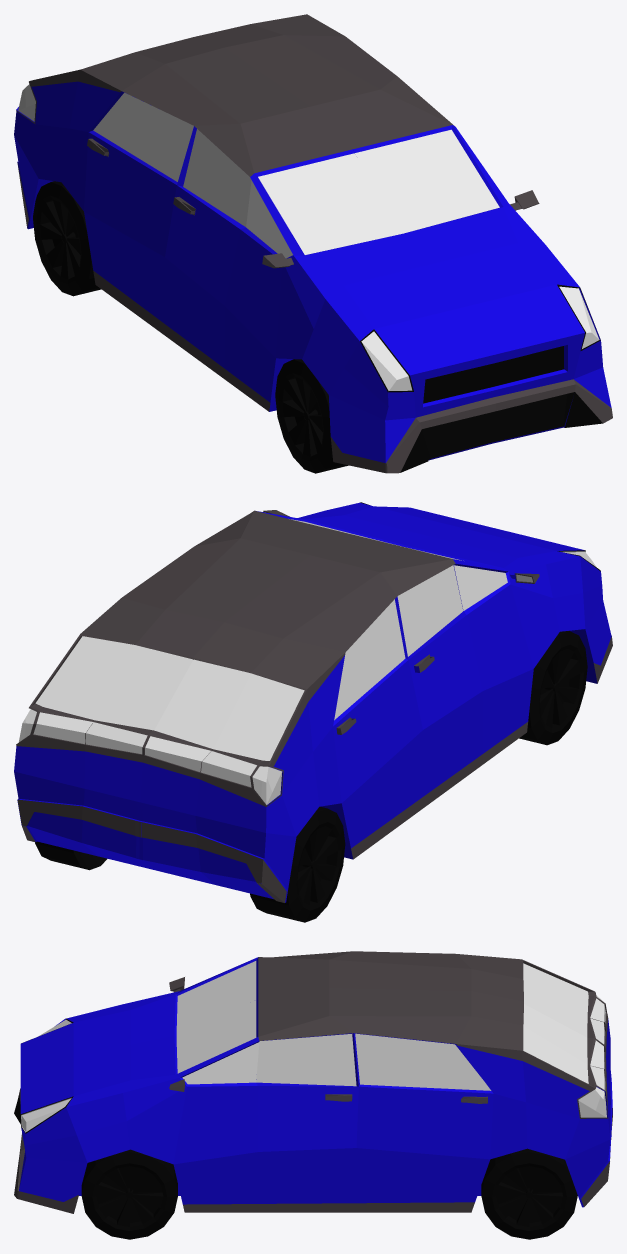
File: najnowszy samochod.fbx
3 views of the same model, one above another, from view 1: azimuth 30°, elevation 25°; view 2: azimuth 150°, elevation 25°; view 3: azimuth 270°, elevation 25° (orthographic). The views are drawn at different scales.
Parts seen in each view (by area): view 1: Cube; view 2: Cube; view 3: Cube.
Boxes of the visible parts, x1,y1,x2,y2 form: Cube: (14, 14, 612, 473); Cube: (14, 502, 612, 922); Cube: (14, 951, 612, 1239).
Size of the model in its own units: 312 by 266 by 720.
